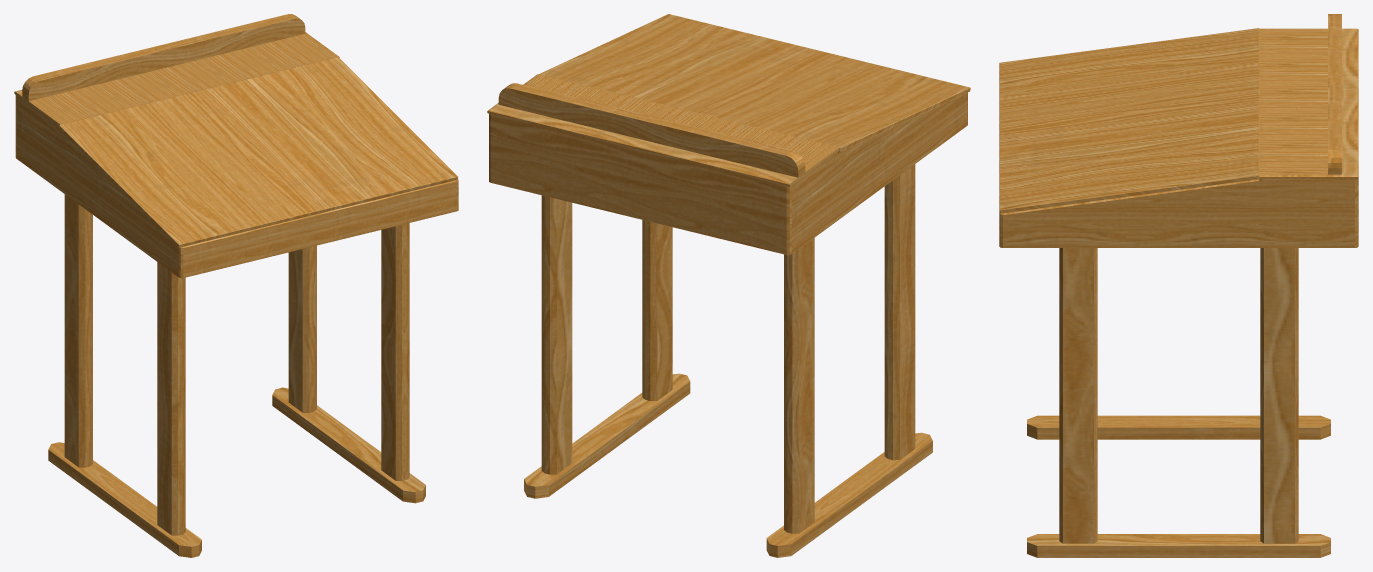
The model's file is desk4.glb.
The picture shows the model from 3 angles, left to right: view 1: azimuth 30°, elevation 25°; view 2: azimuth 150°, elevation 25°; view 3: azimuth 270°, elevation 25°; orthographic projection. The views are drawn at different scales.
Visible parts, largest first — view 1: Small Desk_1, Small Desk Lid_0; view 2: Small Desk_1, Small Desk Lid_0; view 3: Small Desk_1, Small Desk Lid_0.
Boxes of the visible parts, x1=… form: Small Desk_1: x1=14, y1=14, x2=458, y2=557; Small Desk Lid_0: x1=59, y1=57, x2=457, y2=247; Small Desk_1: x1=487, y1=74, x2=967, y2=557; Small Desk Lid_0: x1=539, y1=14, x2=970, y2=151; Small Desk_1: x1=999, y1=14, x2=1358, y2=557; Small Desk Lid_0: x1=999, y1=28, x2=1259, y2=213.
Bounding box in the file's own units: 10.84 × 13.96 × 11.1.
Materials: 1 (1 with a texture image).
